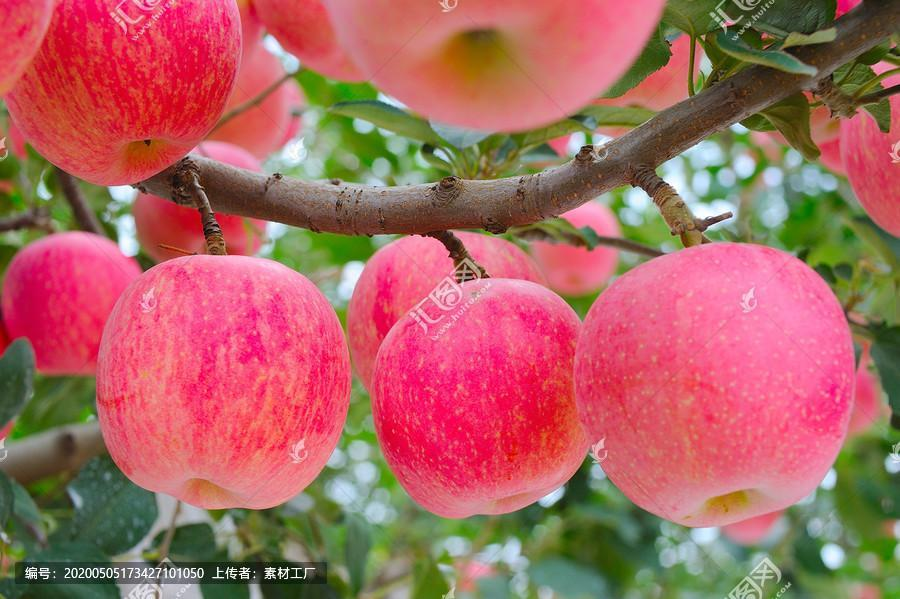apple: (577, 245, 852, 522), (94, 255, 356, 505), (358, 254, 586, 510), (5, 1, 246, 187)
